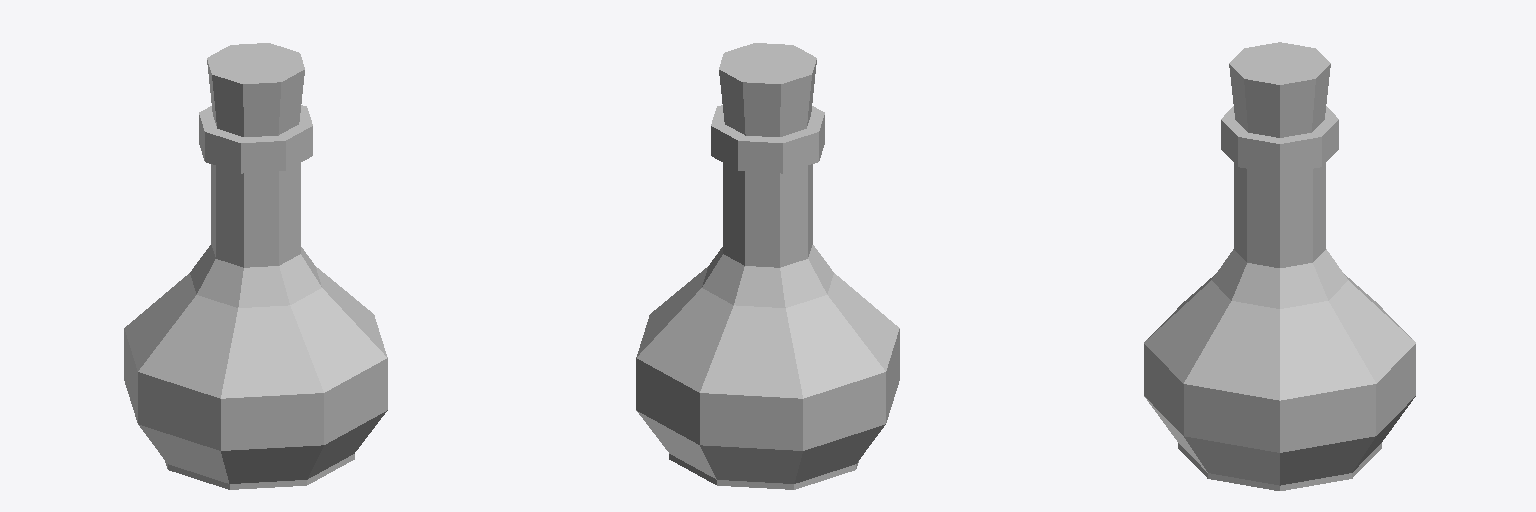
Rendered from blue_potion.obj.
The picture shows the model from 3 angles: view 1: azimuth 30°, elevation 25°; view 2: azimuth 150°, elevation 25°; view 3: azimuth 270°, elevation 25°; orthographic projection.
Visible parts, largest first — view 1: Potion_Cylinder.002; view 2: Potion_Cylinder.002; view 3: Potion_Cylinder.002.
Part boxes in pixels (left/top/right/bottom): Potion_Cylinder.002: left=124, top=43, right=387, bottom=489; Potion_Cylinder.002: left=636, top=43, right=899, bottom=489; Potion_Cylinder.002: left=1144, top=42, right=1415, bottom=490.
Size of the model in its own units: 1.01 by 1.57 by 1.01.